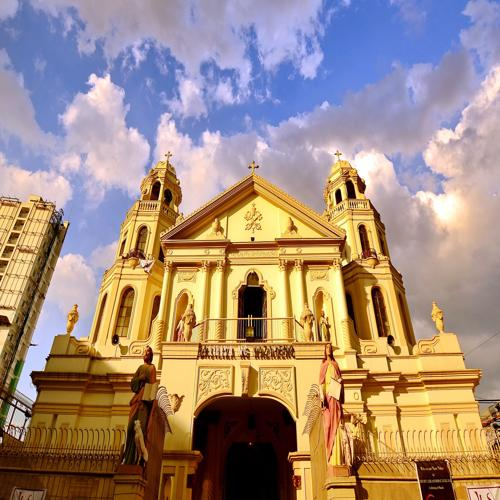Quiapo Church: (35, 117, 489, 500)
